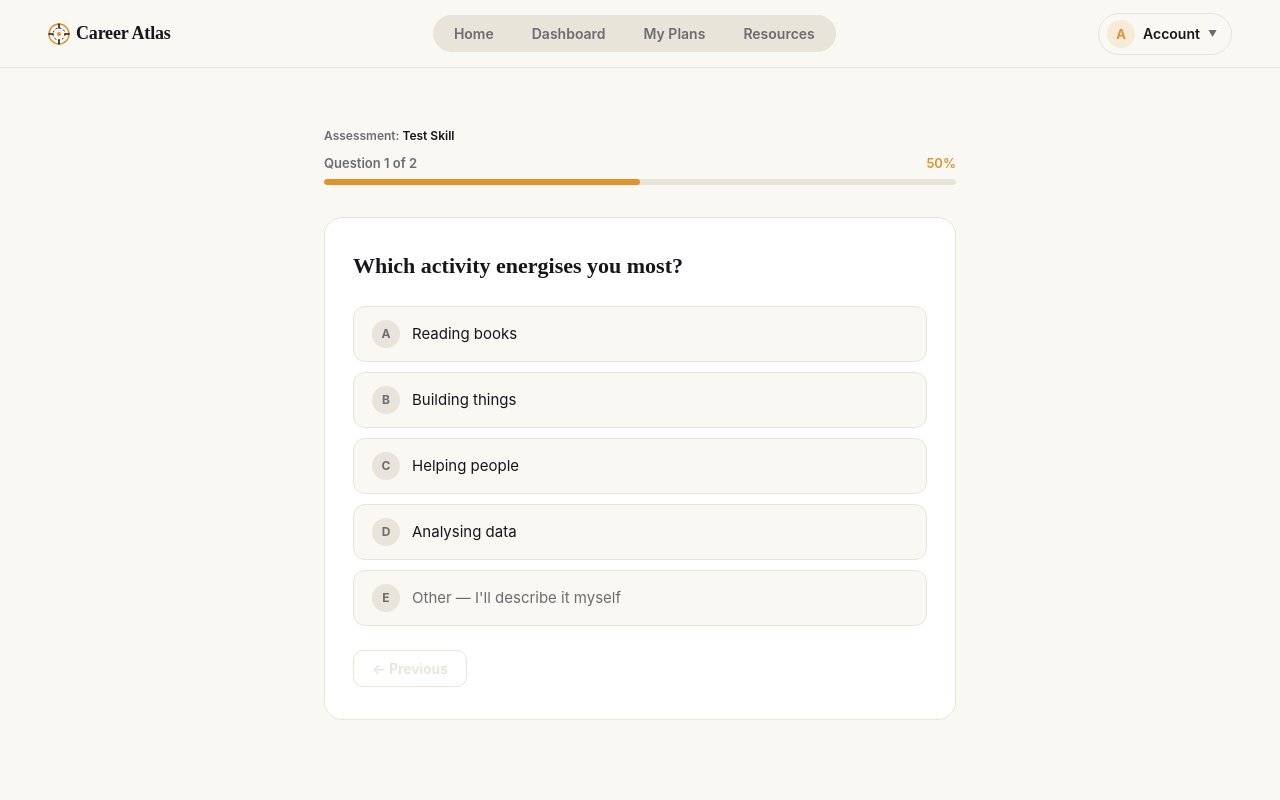
Scenario: Assessment quiz flow › advances to the next question after answering
This screenshot has width=1280, height=800.
Click the button "B Building things" at (464, 400), box [353, 372, 927, 428]
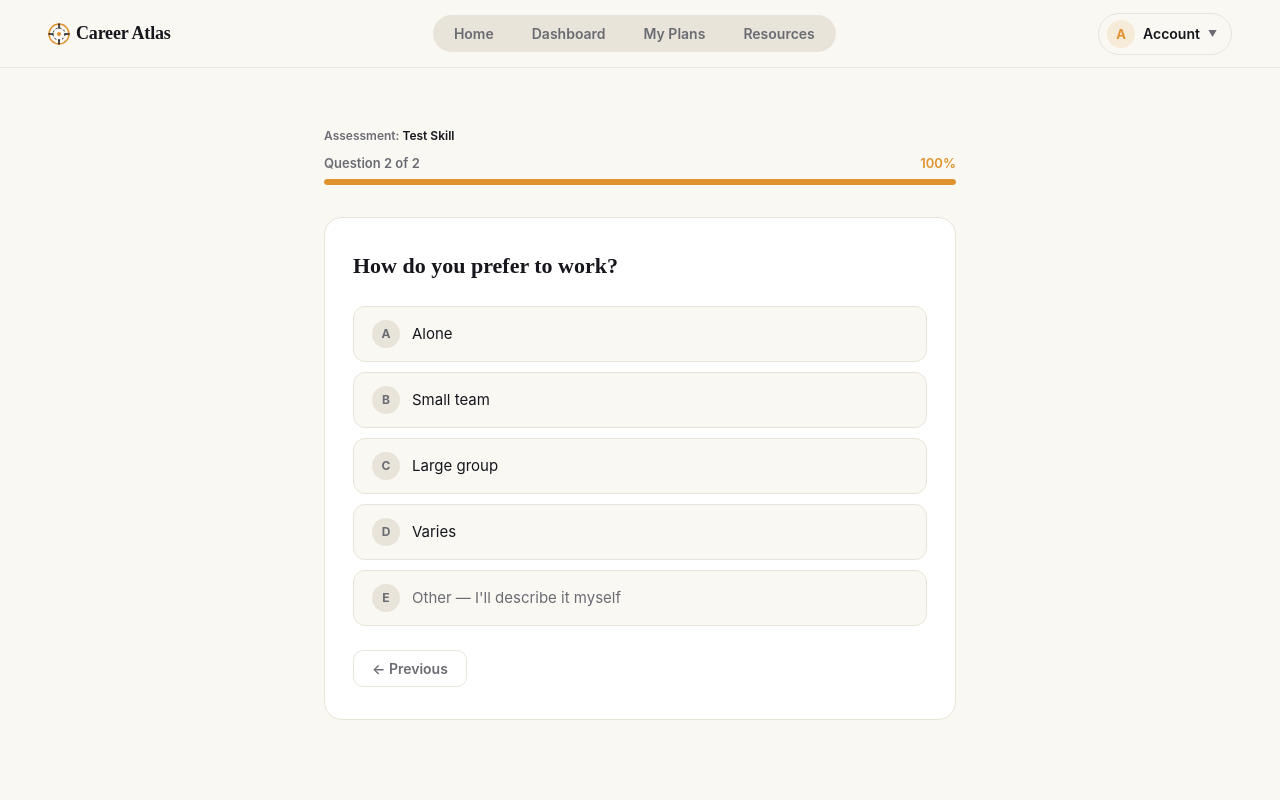
Check: the heading "How do you prefer to work?" is shown, box [353, 253, 618, 278]
Check: the text "Question 2 of 2" is shown, box [324, 155, 420, 171]
